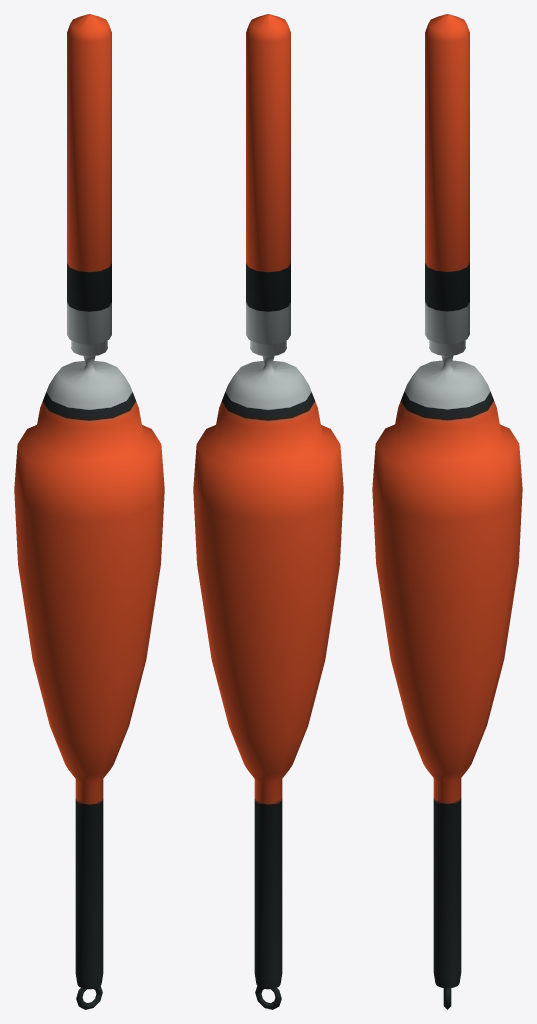
The picture shows the model from 3 angles, left to right: view 1: azimuth 30°, elevation 25°; view 2: azimuth 150°, elevation 25°; view 3: azimuth 270°, elevation 25°; orthographic projection.
Parts seen in each view (by area): view 1: F17_Float; view 2: F17_Float; view 3: F17_Float.
Boxes of the visible parts, bbox=[...] form: F17_Float: bbox=[14, 14, 164, 1009]; F17_Float: bbox=[193, 14, 343, 1009]; F17_Float: bbox=[372, 14, 522, 1009].
Size of the model in its own units: 0.0274 by 0.2 by 0.0274.
1 material, 1 textured.
